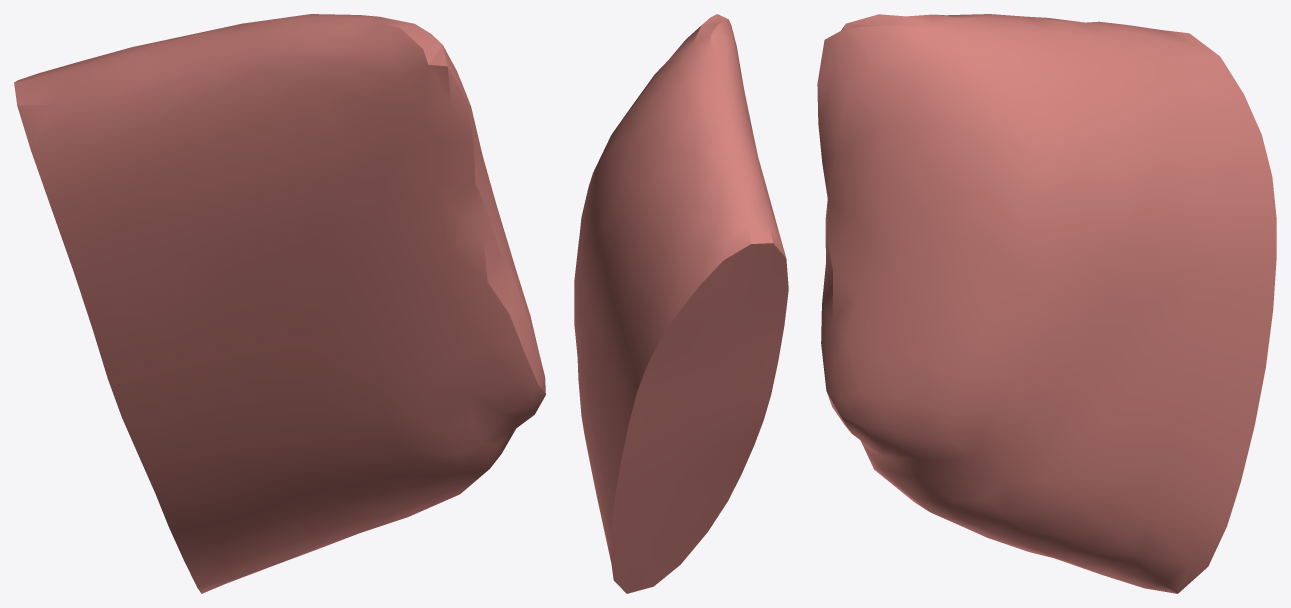
Rendered from fma299133_mm3998.glb.
3 renders of one model, left to right at view 1: azimuth 30°, elevation 25°; view 2: azimuth 150°, elevation 25°; view 3: azimuth 270°, elevation 25°, orthographic. The views are drawn at different scales.
Visible parts, largest first — view 1: FMA299133_MM3998; view 2: FMA299133_MM3998; view 3: FMA299133_MM3998.
Part boxes in pixels (left/top/right/bottom): FMA299133_MM3998: left=14, top=14, right=545, bottom=593; FMA299133_MM3998: left=574, top=14, right=788, bottom=593; FMA299133_MM3998: left=817, top=14, right=1276, bottom=593.
Size of the model in its own units: 0.0147 by 0.0248 by 0.0173.
